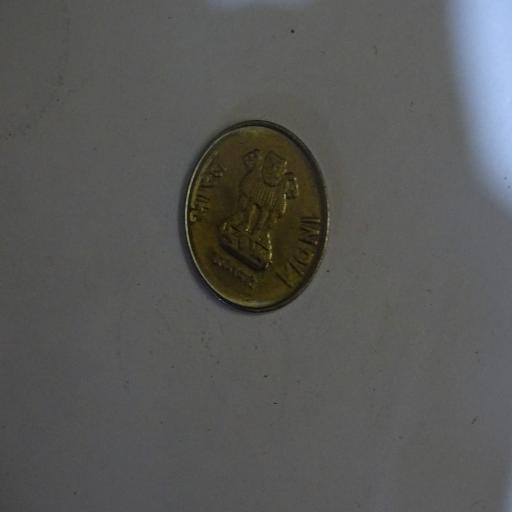rupee1: (181, 120, 330, 314)
